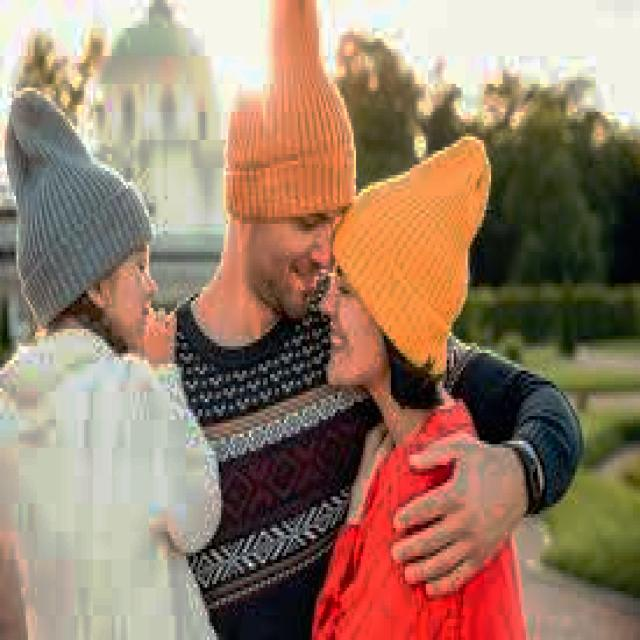TOPI: (324, 126, 494, 374), (2, 73, 154, 329), (221, 0, 361, 224)
